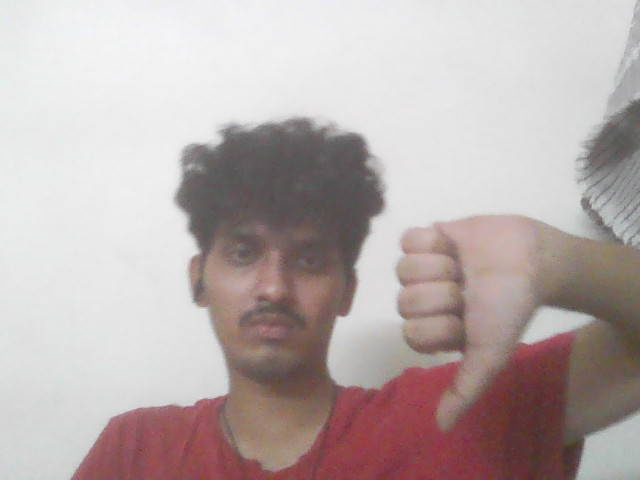No: (395, 196, 550, 438)
